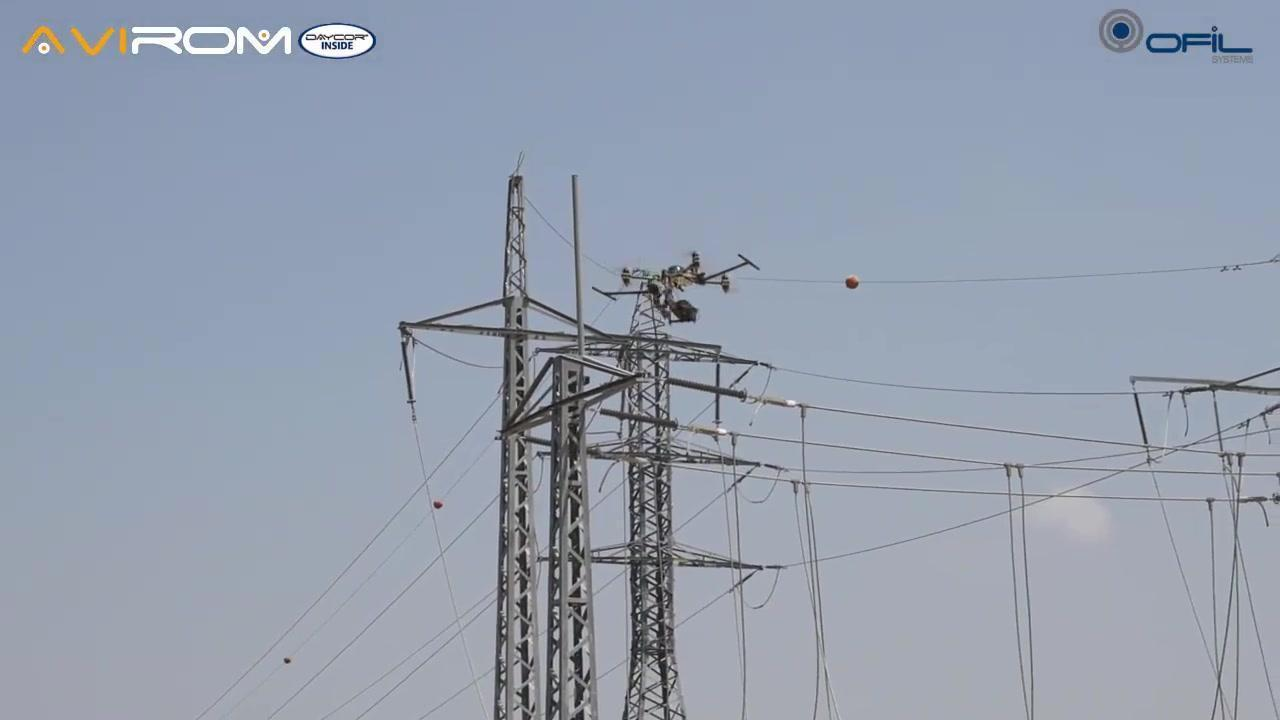UAV: (622, 252, 761, 295)
